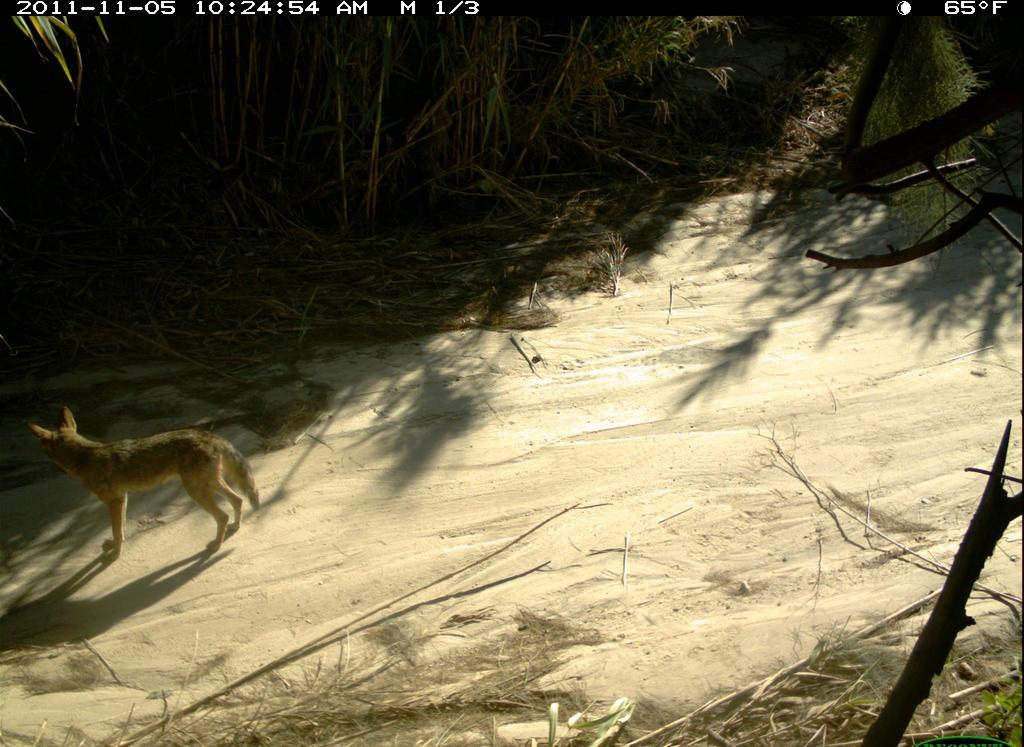coyote: (3, 391, 280, 591)
